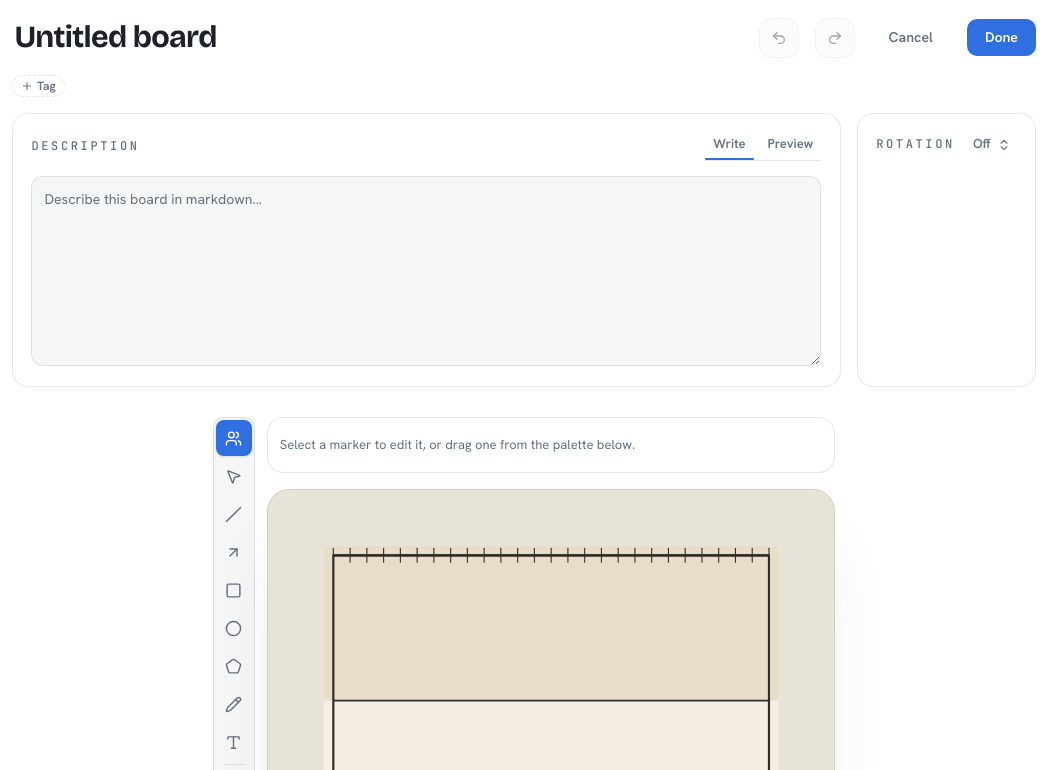
Test: BoardEditor undo/redo › tool hotkeys are swallowed while typing in a text field
Click the field named "Board title" at (377, 38), box [12,12,743,63]
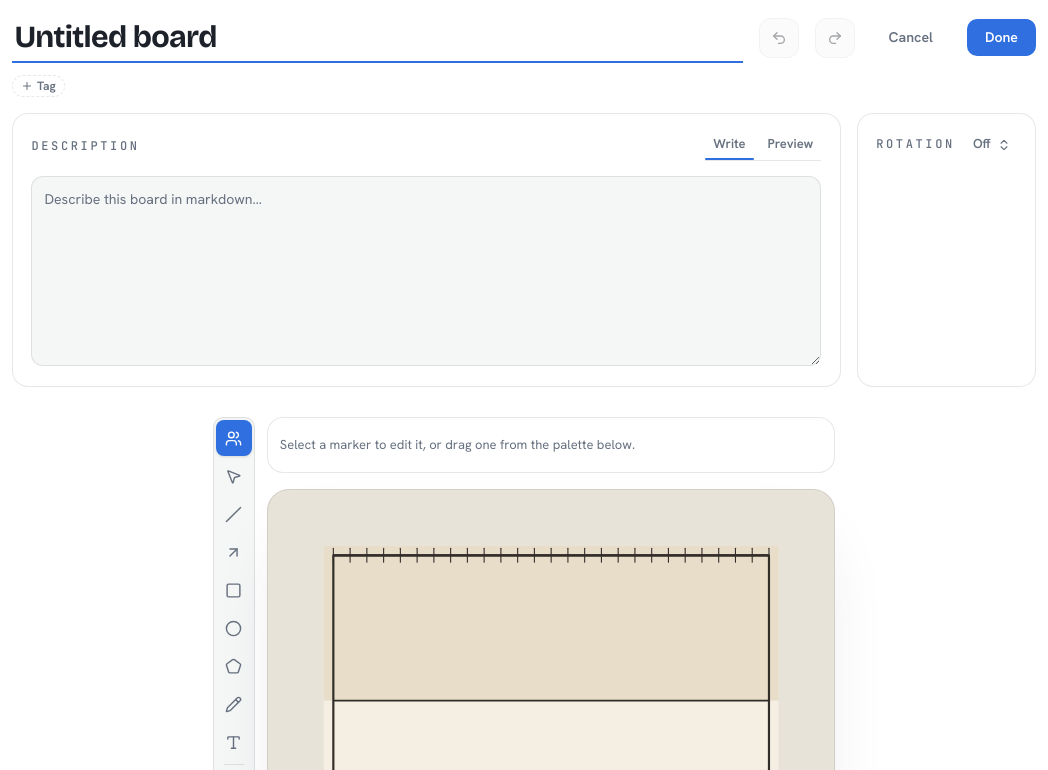
Type keys "a"
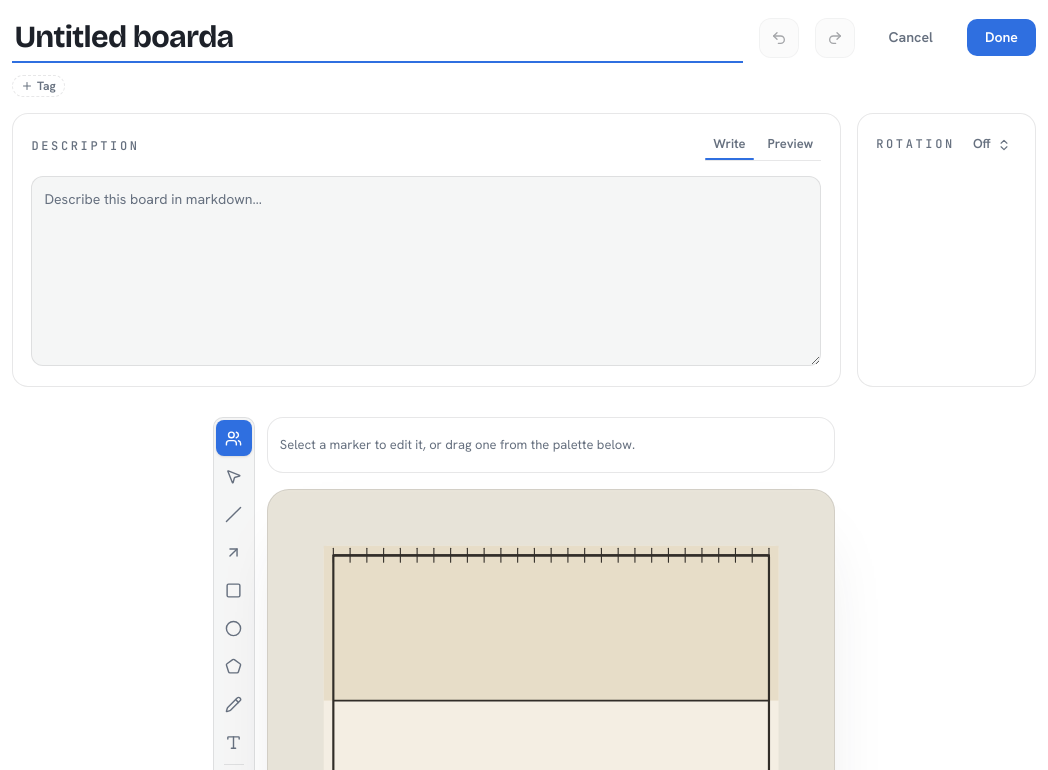
Expected: the field named "Board title" holds "Untitled boarda", [12,12,743,63]
